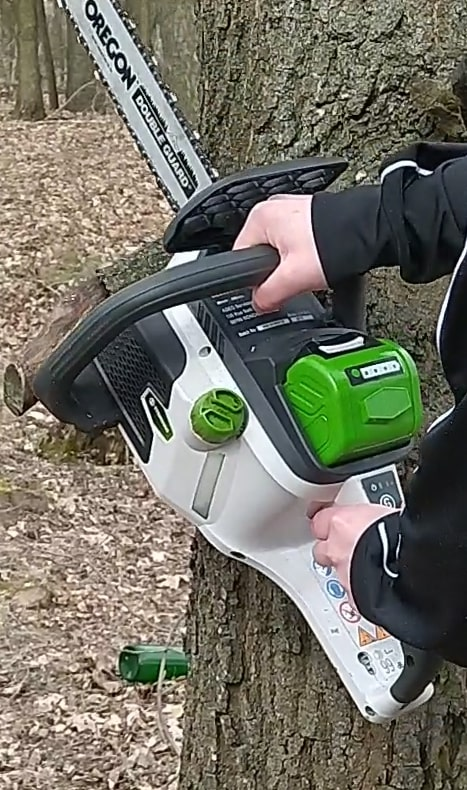chainsaw: (31, 1, 446, 760)
